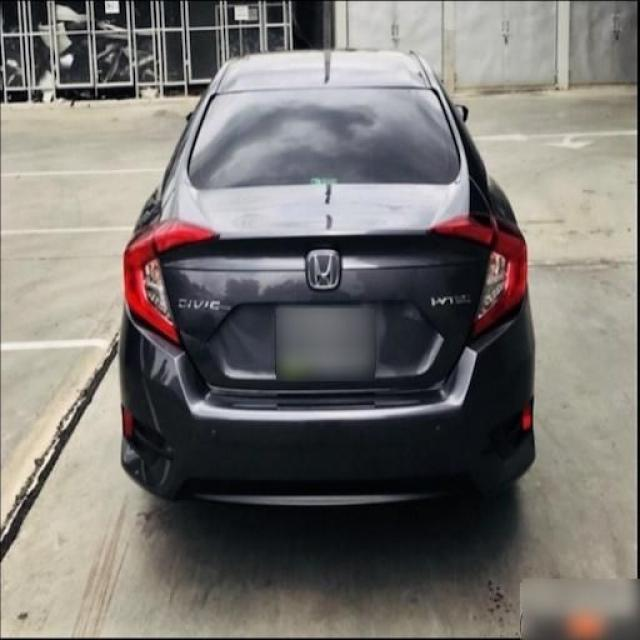back_bumper: (117, 296, 538, 521)
back_glass: (188, 88, 462, 188)
back_left_light: (124, 219, 224, 348)
back_right_light: (435, 216, 530, 332)
tailgate: (154, 168, 495, 397)
